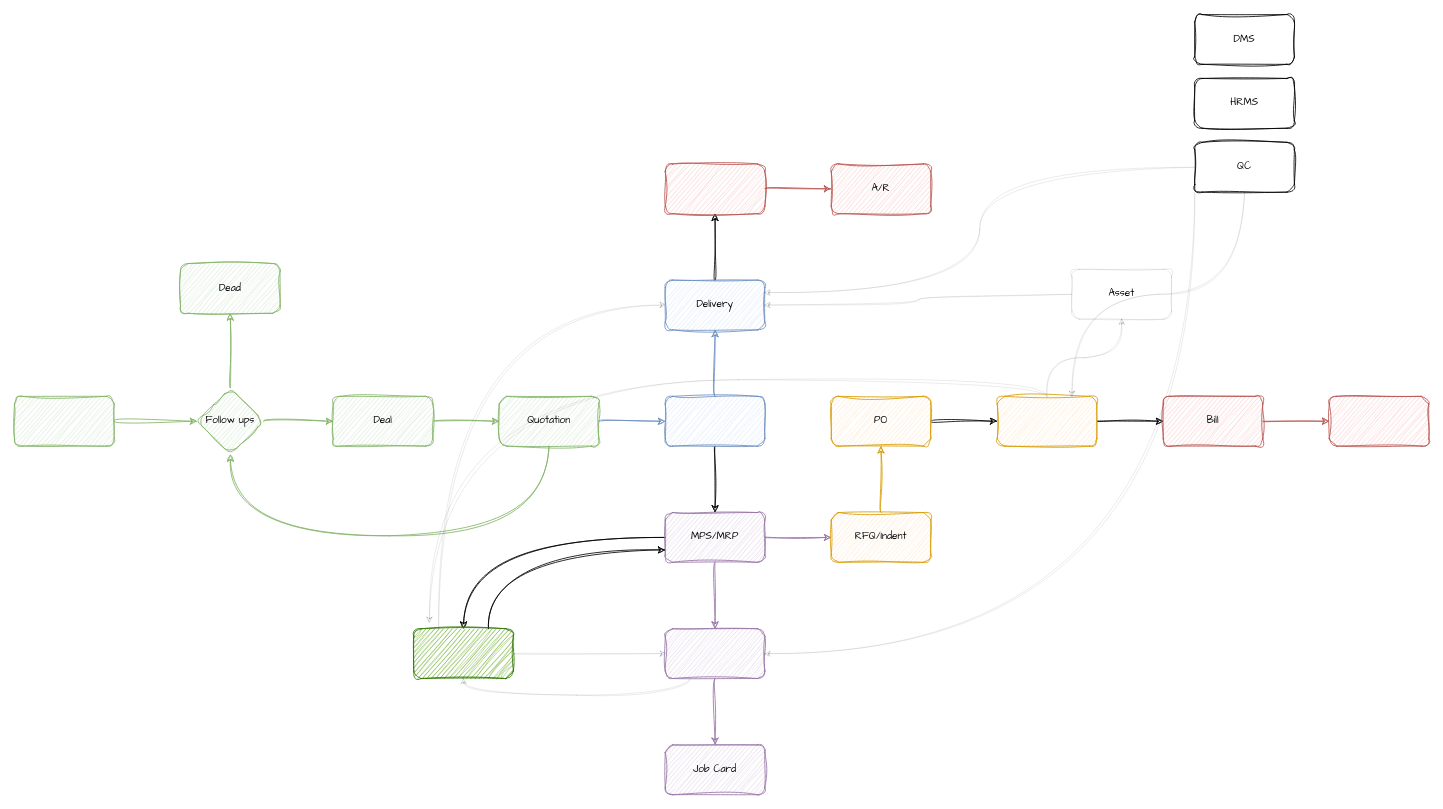
Image size: 1443x809. Some labels were removed from this diagram. Here are the shapes that lost their labels. From the top down, the box of each, then its label:
(664, 163, 765, 214): Invoice
(14, 395, 114, 446): Lead
(664, 395, 765, 446): Sales Order
(996, 395, 1097, 446): GRN
(1328, 395, 1429, 446): A/P
(413, 628, 513, 679): Stock
(664, 628, 765, 679): Work Order
